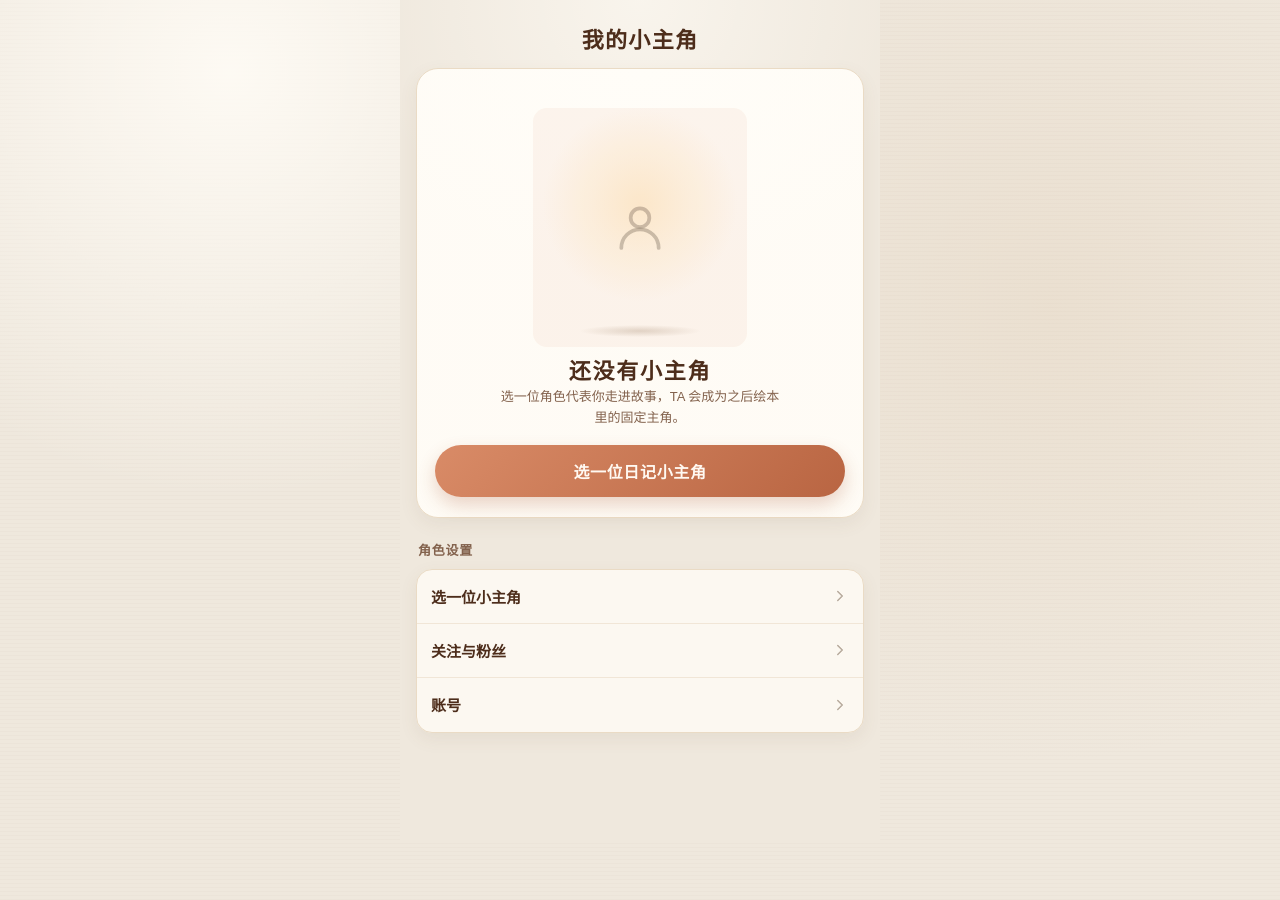
Test: Mine · 关注与粉丝 › renders directional sections 看见我的人 and 我关心的人 with counts
Click the button "关注与粉丝".
click(469, 651)  # box [417, 624, 863, 678]
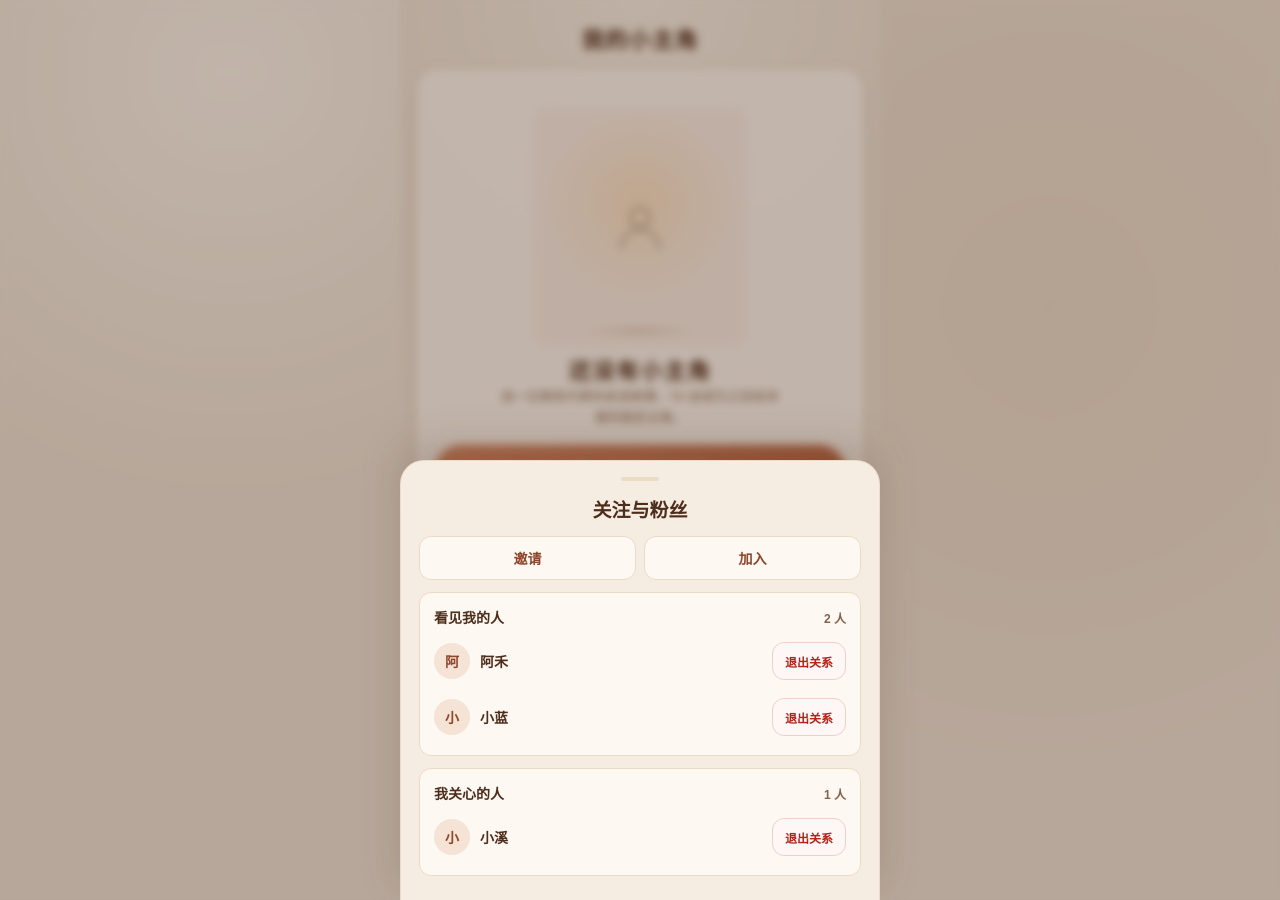
Expected: the text "我关心的人" is shown, [434, 783, 504, 803]
Expected: the text "2 人" is shown, [824, 608, 846, 626]
Expected: the text "1 人" is shown, [824, 784, 846, 802]
